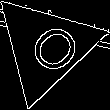O_SW: (13, 14, 79, 80)
